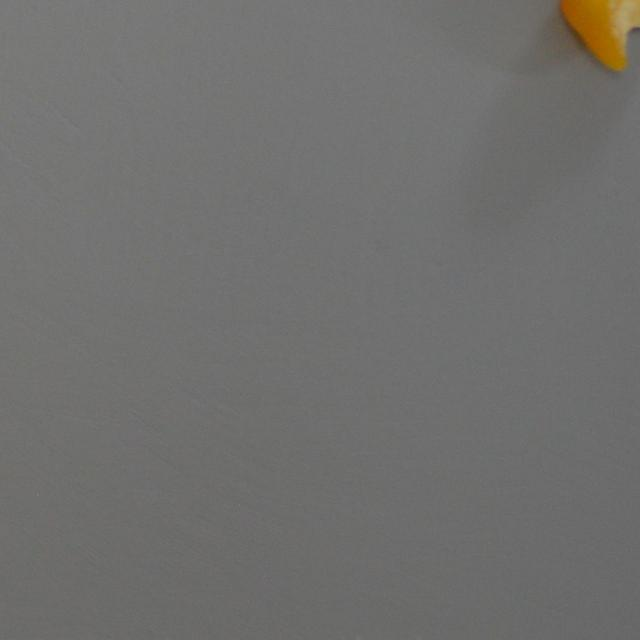no_canjicado: (553, 0, 638, 75)
